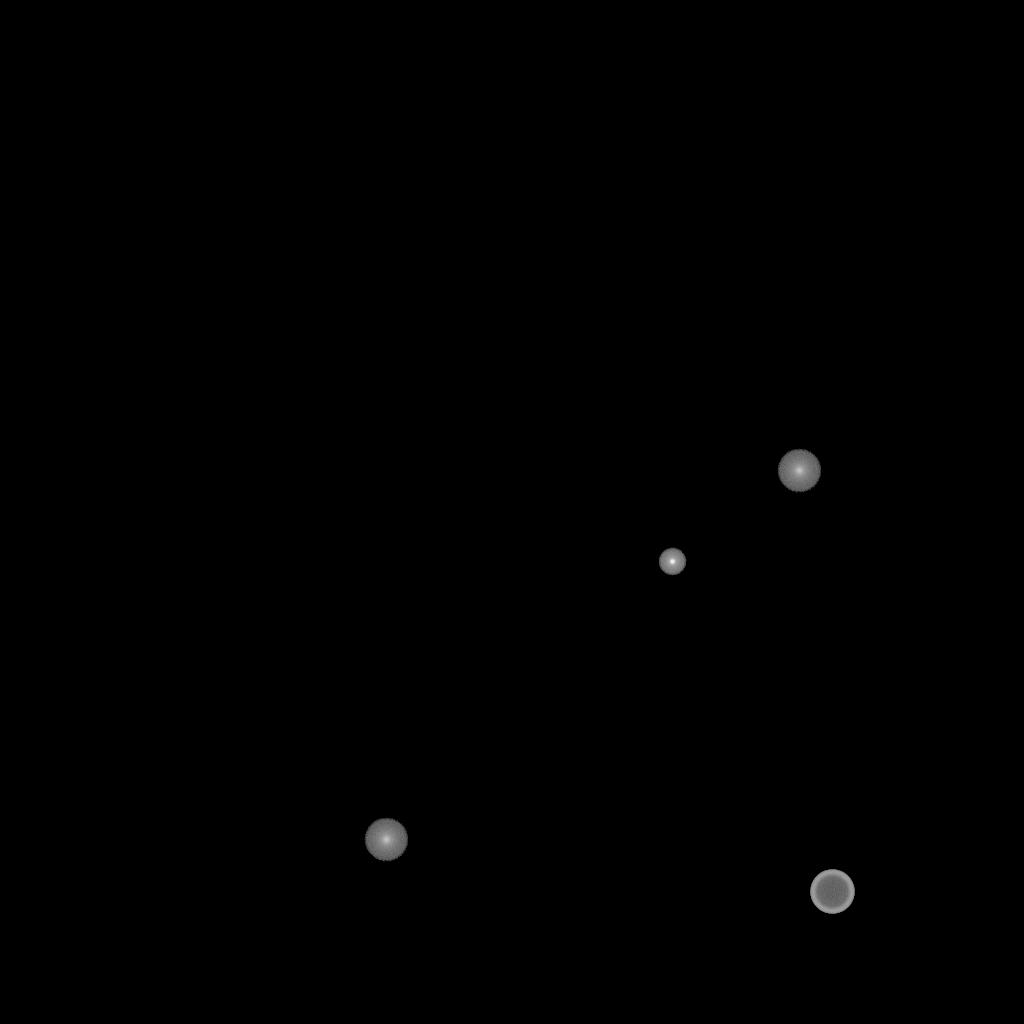depth:-10: (658, 548, 686, 576)
depth:-70: (810, 870, 854, 914)
depth:10: (777, 449, 821, 493), (364, 818, 408, 862)
